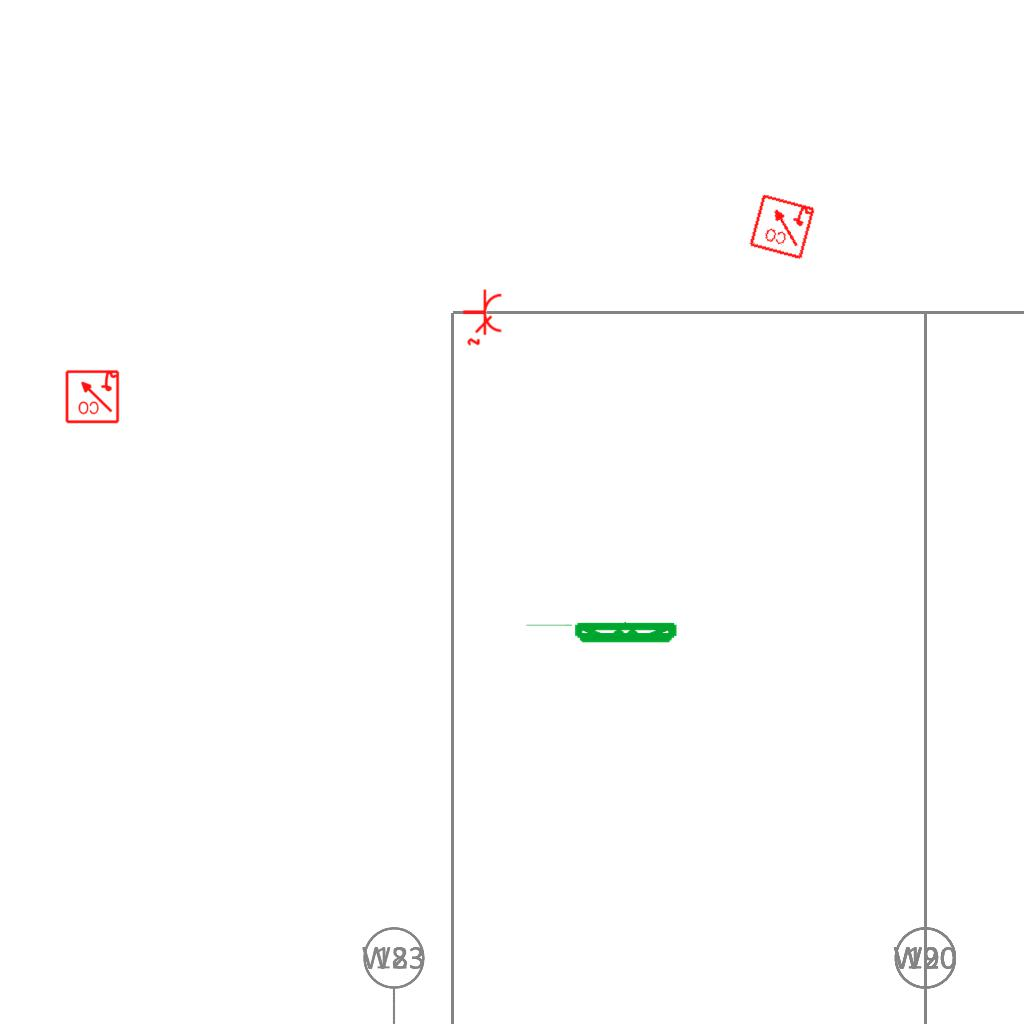ROA_Rauchmelder_optisch_mit_Signalgeber_(Sockelsirene): (747, 191, 817, 261), (64, 368, 120, 424)
Schukosteckdose_mehrfach: (460, 287, 504, 347)
Sicherheitsleuchte_Wandeinbau: (521, 621, 680, 646)
